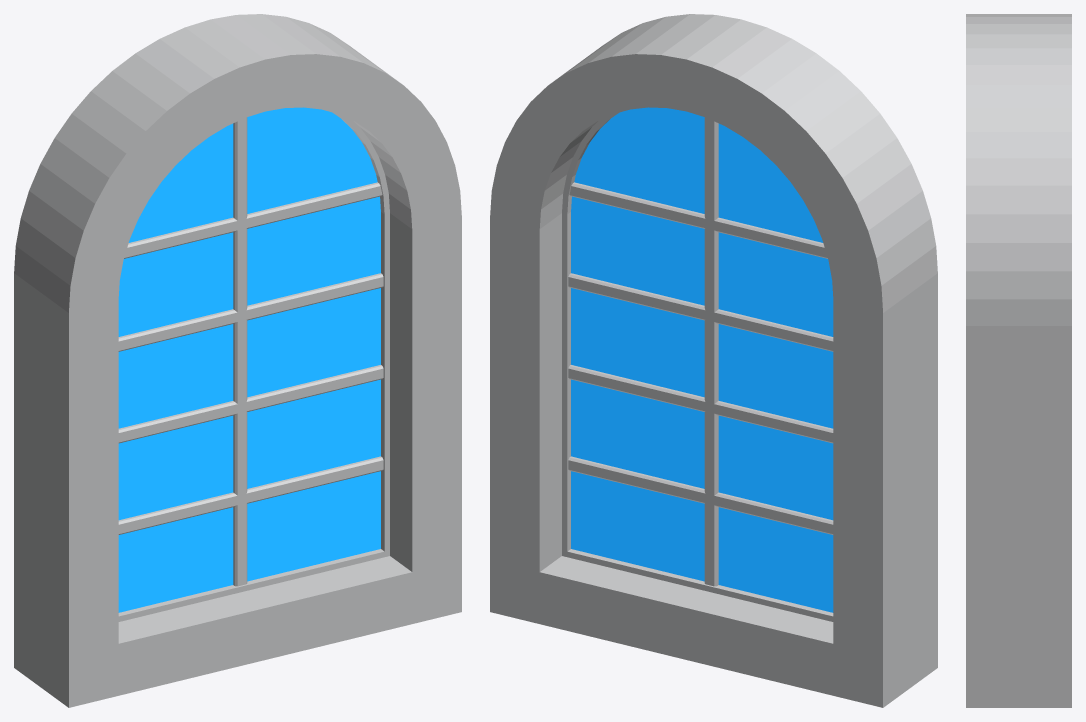
File: janela_arco_2x5_branca.glb
3 renders of one model, left to right at view 1: azimuth 30°, elevation 25°; view 2: azimuth 150°, elevation 25°; view 3: azimuth 270°, elevation 25°, orthographic. The views are drawn at different scales.
Visible parts, largest first — view 1: janela_arco_2x5_branca; view 2: janela_arco_2x5_branca; view 3: janela_arco_2x5_branca.
Boxes of the visible parts, x1,y1,x2,y2 form: janela_arco_2x5_branca: (14, 14, 461, 707); janela_arco_2x5_branca: (490, 14, 937, 707); janela_arco_2x5_branca: (966, 14, 1071, 707).
Size of the model in its own units: 0.87 by 1.27 by 0.21.
